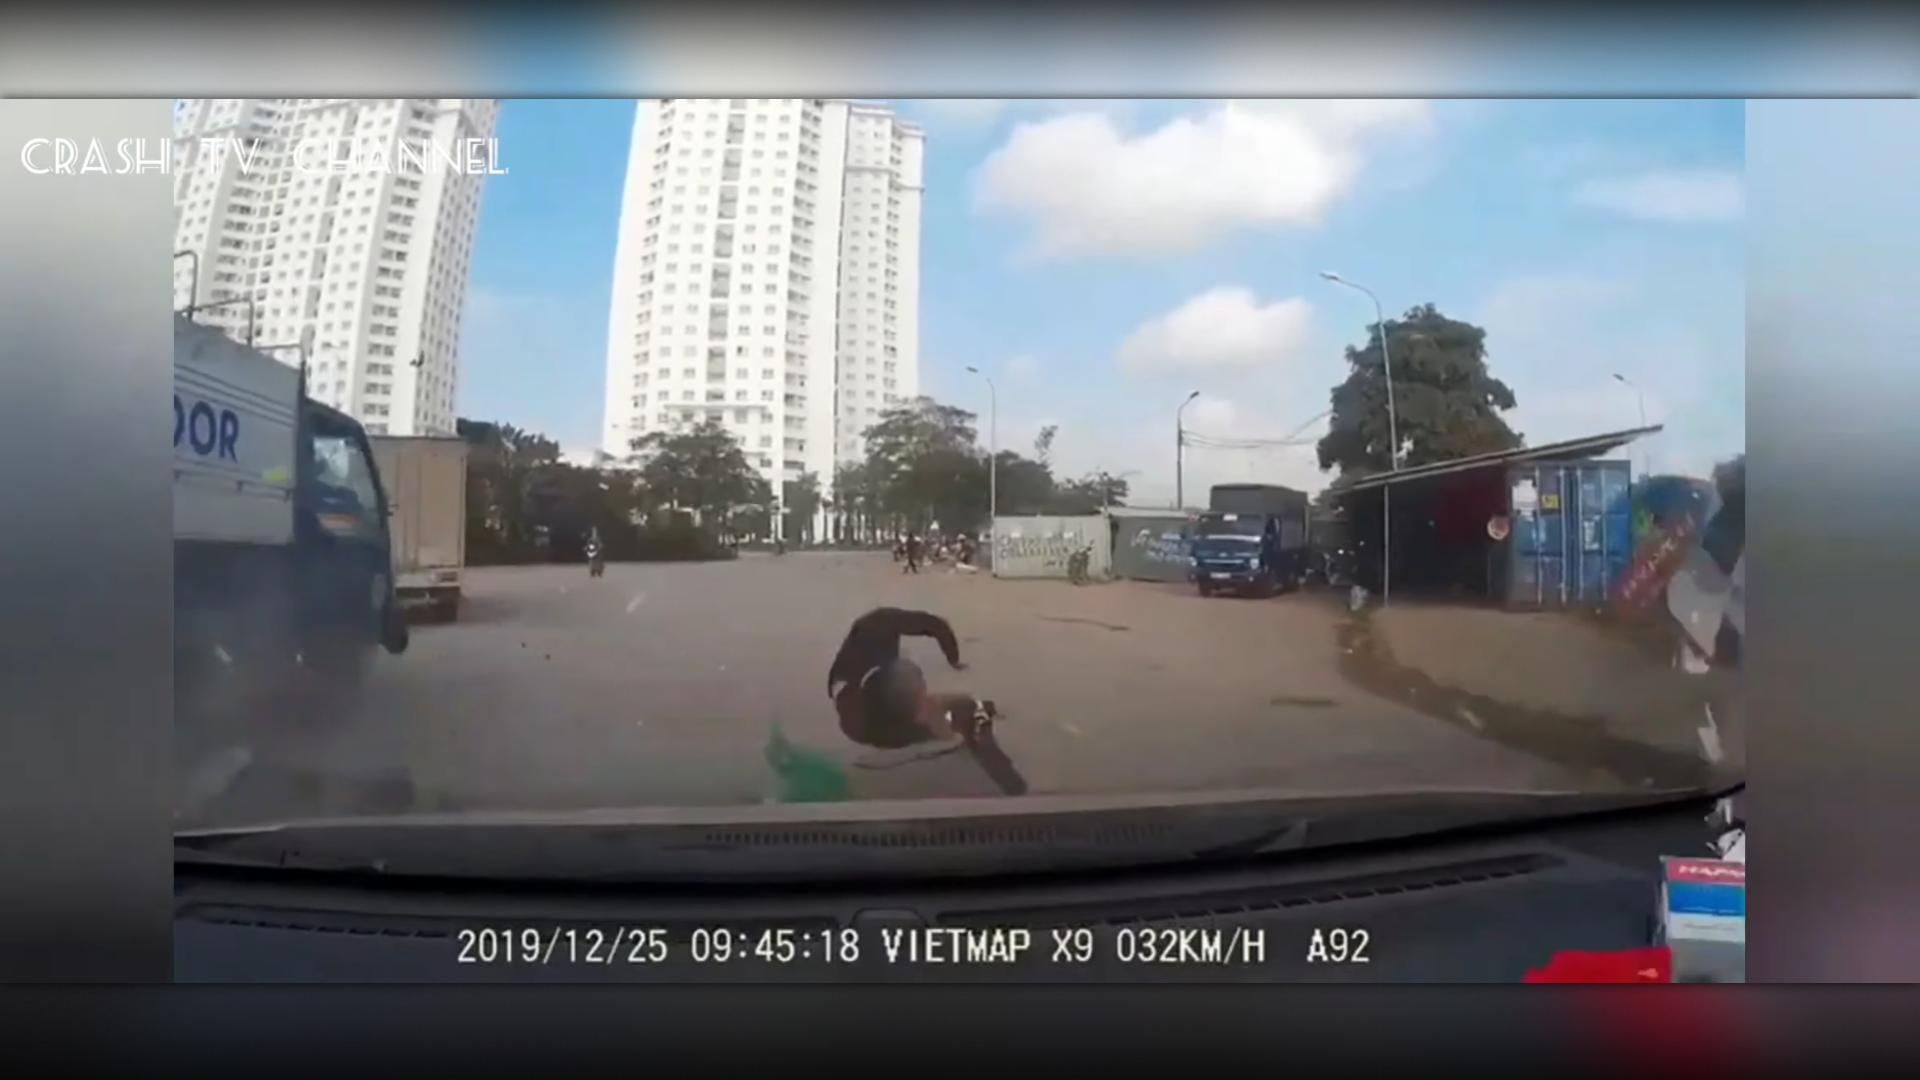accident: (802, 574, 1039, 803)
truck: (175, 291, 409, 705)
